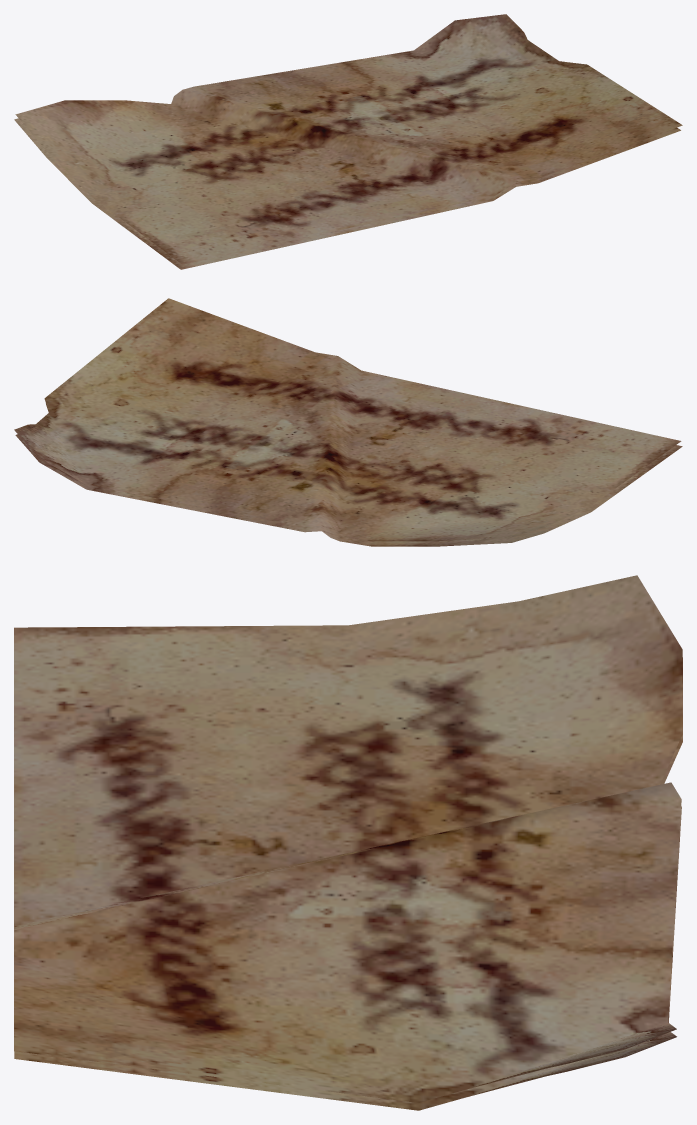
Rendered from sm74_008_memo01a.fbx.
3 renders of one model, top to bottom at view 1: azimuth 30°, elevation 25°; view 2: azimuth 150°, elevation 25°; view 3: azimuth 270°, elevation 25°, orthographic. The views are drawn at different scales.
Visible parts, largest first — view 1: LOD_1_Group_0_Sub_1__sm74_008_Memo01A_A_Mat__Env_default; view 2: LOD_1_Group_0_Sub_1__sm74_008_Memo01A_A_Mat__Env_default; view 3: LOD_1_Group_0_Sub_1__sm74_008_Memo01A_A_Mat__Env_default.
Part boxes in pixels (<box>): LOD_1_Group_0_Sub_1__sm74_008_Memo01A_A_Mat__Env_default: <box>14,14,682,269</box>; LOD_1_Group_0_Sub_1__sm74_008_Memo01A_A_Mat__Env_default: <box>14,298,682,546</box>; LOD_1_Group_0_Sub_1__sm74_008_Memo01A_A_Mat__Env_default: <box>14,575,682,1110</box>.
Size of the model in its own units: 0.1204 by 0.0103 by 0.0727.
